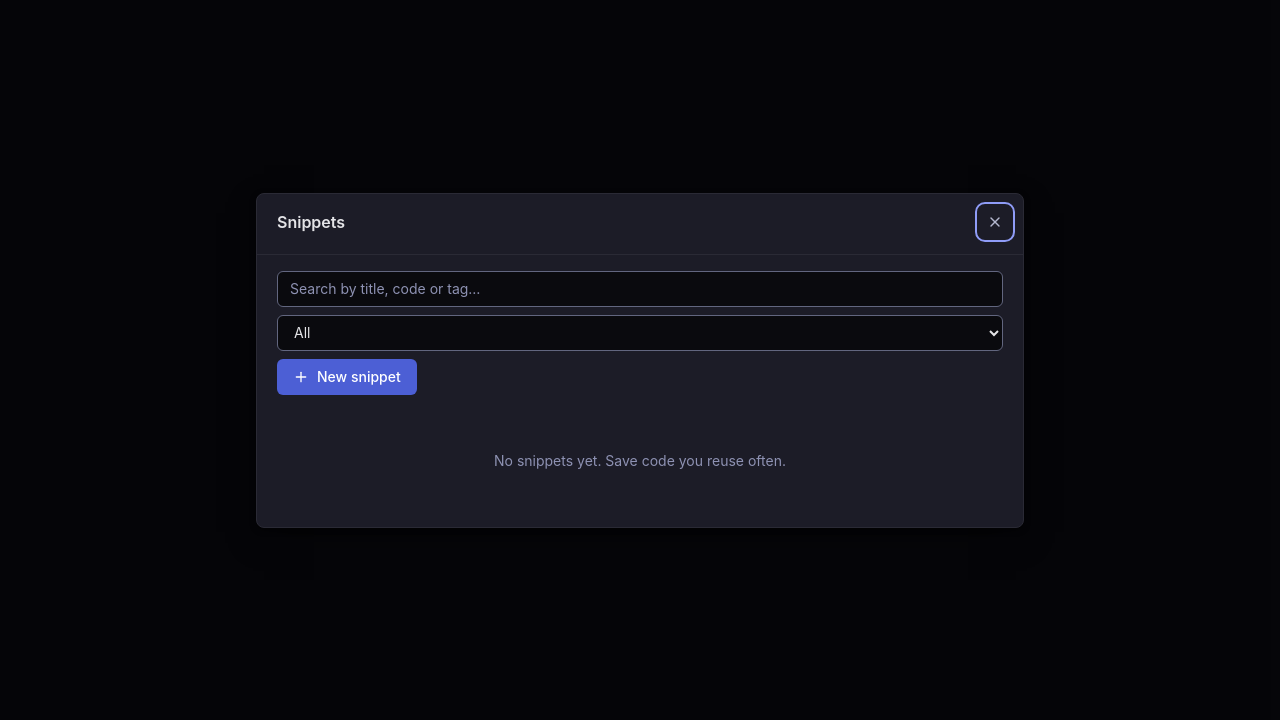
Test: SnippetLibrary › cancel closes the form without saving
Click the button "New snippet" at (347,376), box top-left (277, 358), bottom-right (417, 394)
(page scrolled)
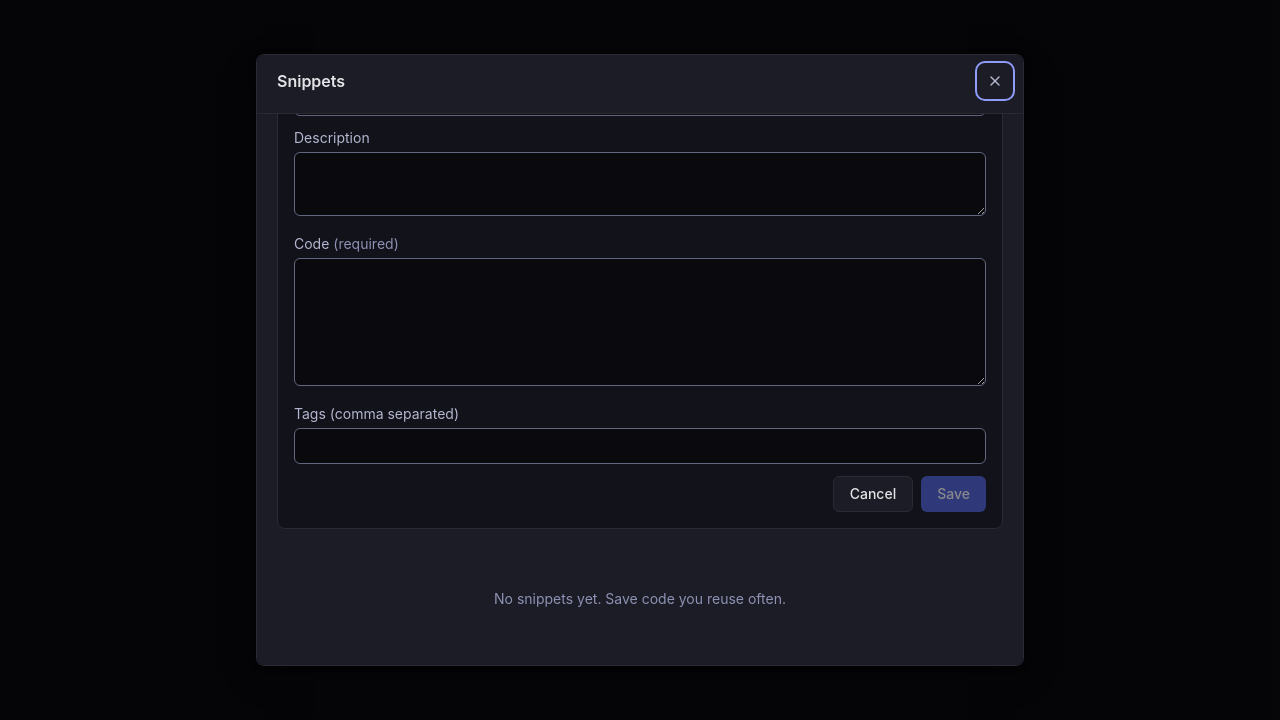
Result: the button "Save" is disabled at top-left (921, 476), bottom-right (986, 512)
Click the button "Cancel" at (873,494), box top-left (833, 476), bottom-right (913, 512)
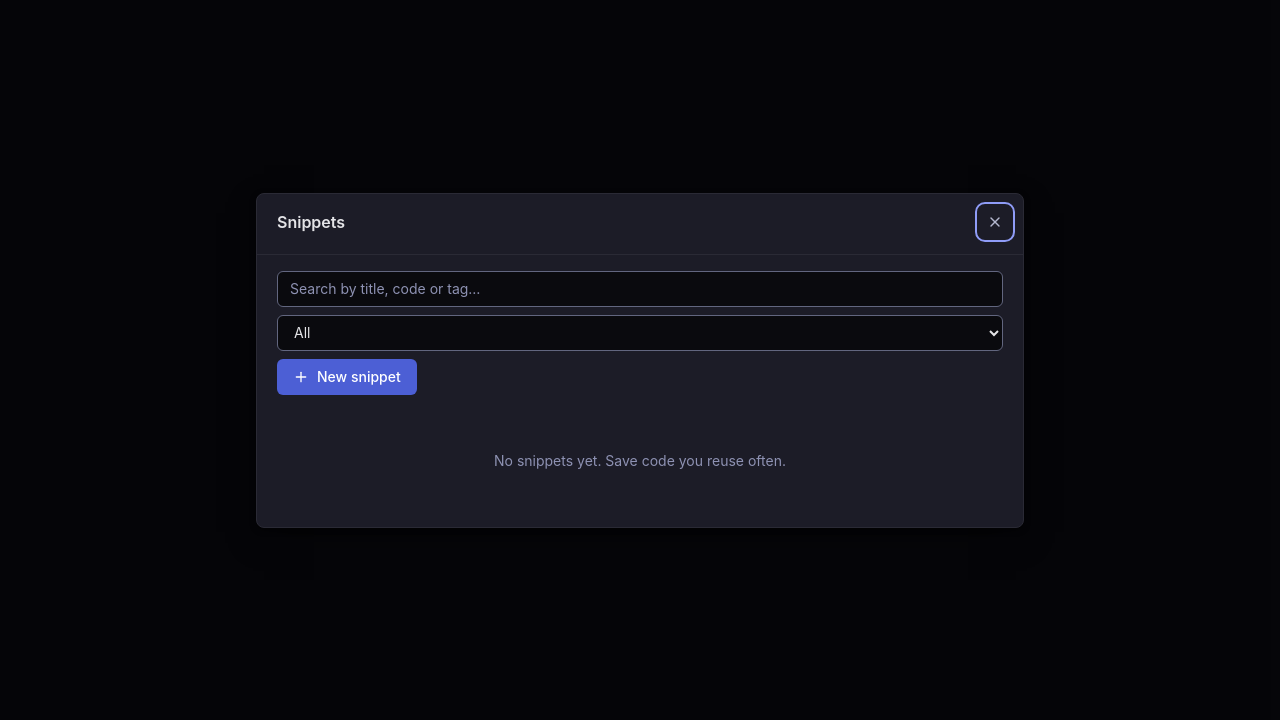
Result: the form is gone
